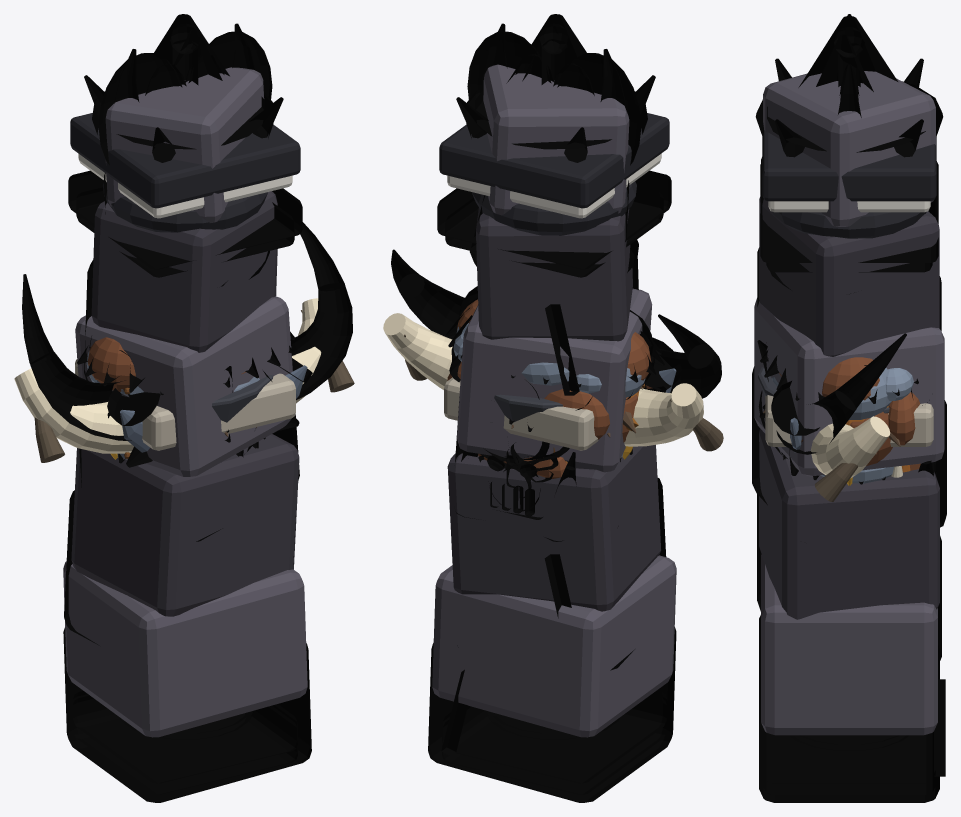
Rendered from MythKit.glb.
The picture shows the model from 3 angles, left to right: view 1: azimuth 30°, elevation 25°; view 2: azimuth 150°, elevation 25°; view 3: azimuth 270°, elevation 25°; orthographic projection.
Visible parts, largest first — view 1: Cyclops_Pylon__5C5864, Cyclops_Pylon__3C3942, Talos_Pylon__000000, Talos_Pylon__26262C, Minotaur_Pylon__000000, Minotaur_Head__000000, Cyclops_Pylon__000000, Minotaur_Head__ECE0C4, Minotaur_Pylon__B9B1A2, Minotaur_Pylon__F1EDE4, Minotaur_UpperTorso__7A4A30, Minotaur_Head__5A4E40 (+3 smaller); view 2: Cyclops_Pylon__5C5864, Cyclops_Pylon__3C3942, Talos_Pylon__000000, Minotaur_Pylon__000000, Talos_Pylon__26262C, Cyclops_Pylon__000000, Minotaur_Head__000000, Minotaur_Head__ECE0C4, Minotaur_Pylon__B9B1A2, Minotaur_UpperTorso__7A4A30, Minotaur_Pylon__F1EDE4, Talos_Head__000000 (+5 smaller); view 3: Cyclops_Pylon__5C5864, Cyclops_Pylon__3C3942, Cyclops_Pylon__000000, Talos_Pylon__000000, Talos_Pylon__26262C, Minotaur_Pylon__000000, Minotaur_Head__000000, Minotaur_Head__ECE0C4, Minotaur_UpperTorso__7A4A30, Minotaur_Pylon__F1EDE4, Minotaur_Pylon__B9B1A2, Cyclops_Head__7E8CA0 (+5 smaller).
Part boxes in pixels (x1,y1,x2,y2): Cyclops_Pylon__5C5864: (63,67,307,737); Cyclops_Pylon__3C3942: (71,191,299,616); Talos_Pylon__000000: (68,23,302,783); Talos_Pylon__26262C: (70,113,300,232); Minotaur_Pylon__000000: (73,23,297,794); Minotaur_Head__000000: (22,222,352,467); Cyclops_Pylon__000000: (63,14,311,802); Minotaur_Head__ECE0C4: (14,298,321,453); Minotaur_Pylon__B9B1A2: (75,359,295,450); Minotaur_Pylon__F1EDE4: (78,153,292,218); Minotaur_UpperTorso__7A4A30: (87,337,246,391); Minotaur_Head__5A4E40: (34,310,354,462); Cyclops_Pylon__5C5864: (432,64,676,737); Cyclops_Pylon__3C3942: (447,208,660,611); Talos_Pylon__000000: (437,23,671,783); Minotaur_Pylon__000000: (442,23,666,794); Talos_Pylon__26262C: (439,113,669,235); Cyclops_Pylon__000000: (428,14,676,802); Minotaur_Head__000000: (391,249,721,511); Minotaur_Head__ECE0C4: (383,313,703,446); Minotaur_Pylon__B9B1A2: (444,377,643,450); Minotaur_UpperTorso__7A4A30: (447,299,651,442); Minotaur_Pylon__F1EDE4: (447,153,661,218); Talos_Head__000000: (480,442,569,541); Cyclops_Pylon__5C5864: (754,71,944,735); Cyclops_Pylon__3C3942: (759,195,939,619); Cyclops_Pylon__000000: (752,16,946,802); Talos_Pylon__000000: (760,14,938,783); Talos_Pylon__26262C: (762,130,936,238); Minotaur_Pylon__000000: (763,27,935,794); Minotaur_Head__000000: (758,333,935,475); Minotaur_Head__ECE0C4: (810,416,890,478); Minotaur_UpperTorso__7A4A30: (779,357,920,465); Minotaur_Pylon__F1EDE4: (768,201,930,212); Minotaur_Pylon__B9B1A2: (765,395,933,446); Cyclops_Head__7E8CA0: (772,368,913,483).
Size of the model in its own units: 12.19 by 27.62 by 6.49.
